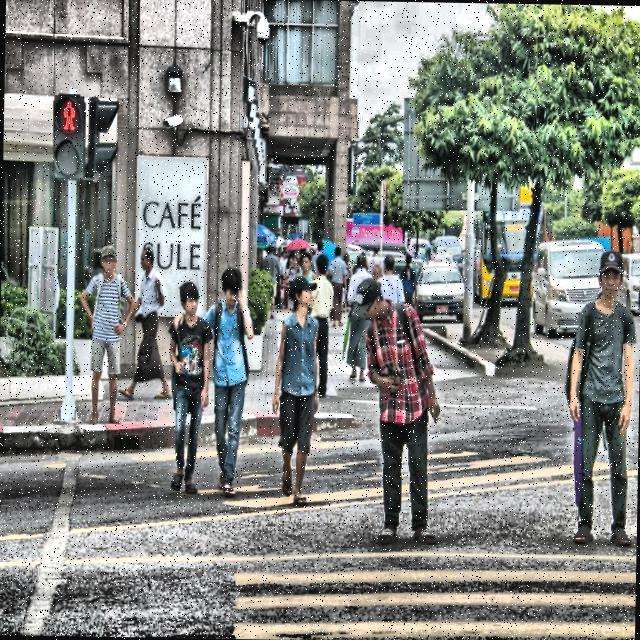red_light: (60, 98, 76, 132)
